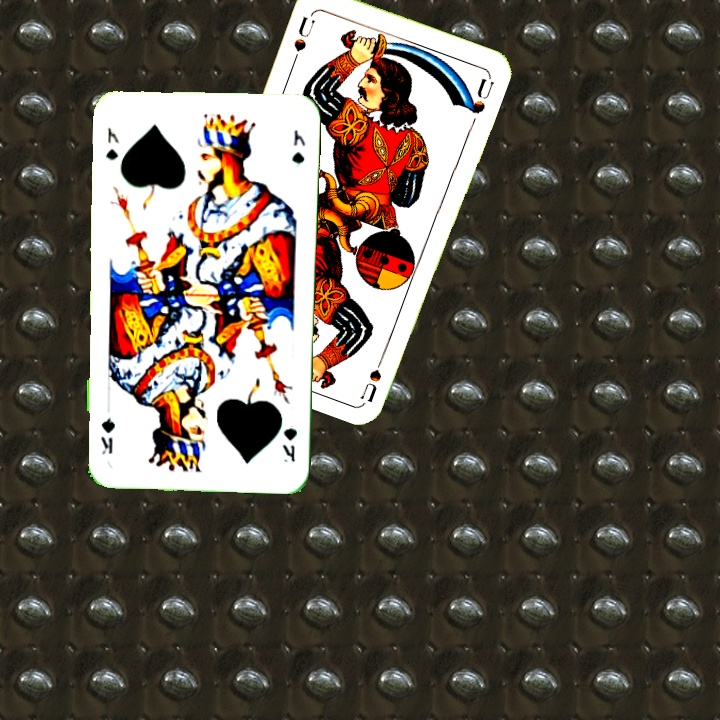GK: (278, 424, 299, 465), (102, 123, 121, 162)
SU: (357, 345, 390, 403), (288, 9, 318, 66)
